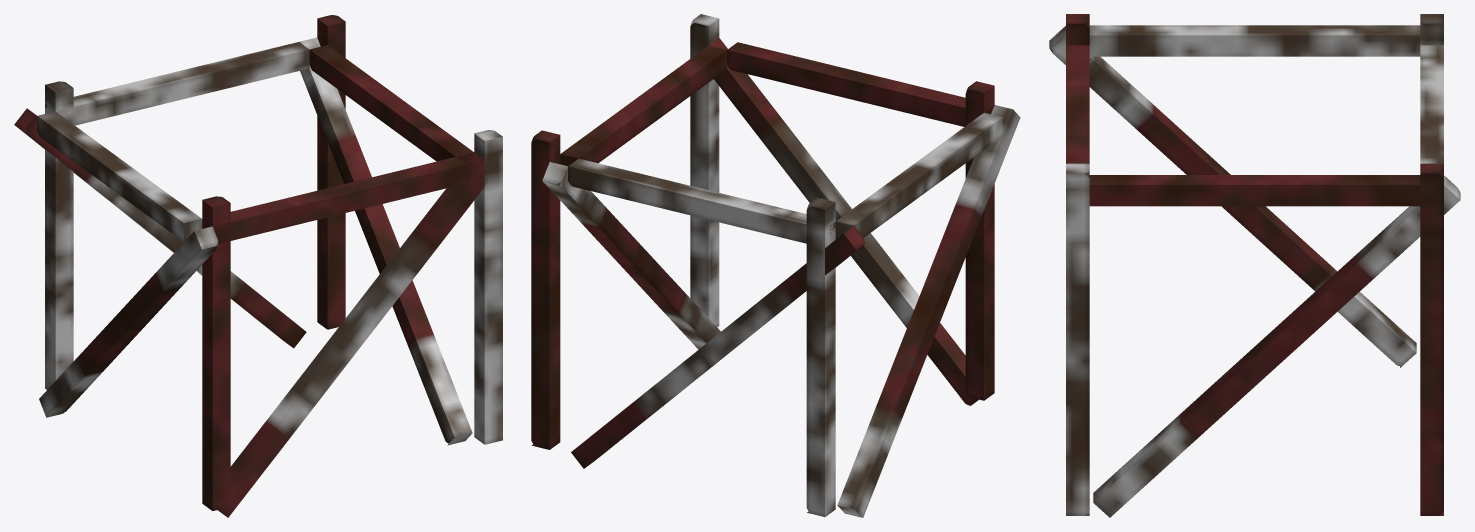
The model's file is radio_tower.obj.
3 renders of one model, left to right at view 1: azimuth 30°, elevation 25°; view 2: azimuth 150°, elevation 25°; view 3: azimuth 270°, elevation 25°, orthographic. The views are drawn at different scales.
Visible parts, largest first — view 1: Part_6, Part_5, Part_1, Part_0, Part_8, Part_9, Part_3, Part_7, Part_11, Part_10, Part_2, Part_4; view 2: Part_7, Part_6, Part_3, Part_2, Part_4, Part_9, Part_8, Part_1, Part_5, Part_0, Part_11, Part_10; view 3: Part_5, Part_7, Part_11, Part_10, Part_1, Part_2, Part_8, Part_9, Part_0, Part_3.
Boxes of the visible parts, box(x1,y1,x2,y2) form: Part_6: box(215, 152, 492, 517); Part_5: box(299, 37, 472, 445); Part_1: box(474, 130, 502, 444); Part_0: box(202, 196, 230, 510); Part_8: box(202, 157, 466, 243); Part_9: box(45, 42, 309, 125); Part_3: box(45, 81, 73, 389); Part_7: box(39, 226, 218, 417); Part_11: box(37, 111, 202, 241); Part_10: box(309, 45, 473, 163); Part_2: box(317, 15, 345, 329); Part_4: box(14, 108, 306, 348); Part_7: box(837, 105, 1020, 517); Part_6: box(709, 38, 978, 405); Part_3: box(806, 197, 835, 516); Part_2: box(531, 130, 560, 449); Part_4: box(571, 226, 864, 468); Part_9: box(568, 158, 835, 243); Part_8: box(727, 42, 993, 126); Part_1: box(690, 14, 719, 327); Part_5: box(542, 162, 720, 349); Part_0: box(965, 81, 994, 400); Part_11: box(835, 112, 1002, 239); Part_10: box(560, 45, 726, 166); Part_5: box(1093, 175, 1460, 517); Part_7: box(1049, 26, 1416, 367); Part_11: box(1089, 25, 1420, 56); Part_10: box(1089, 175, 1420, 206); Part_1: box(1066, 163, 1089, 515); Part_2: box(1420, 163, 1443, 515); Part_8: box(1066, 45, 1089, 163); Part_9: box(1420, 45, 1443, 163); Part_0: box(1066, 14, 1089, 45); Part_3: box(1420, 14, 1443, 45).
Size of the model in its own units: 1.11 by 1.03 by 1.09.
Materials: 1 (1 with a texture image).
